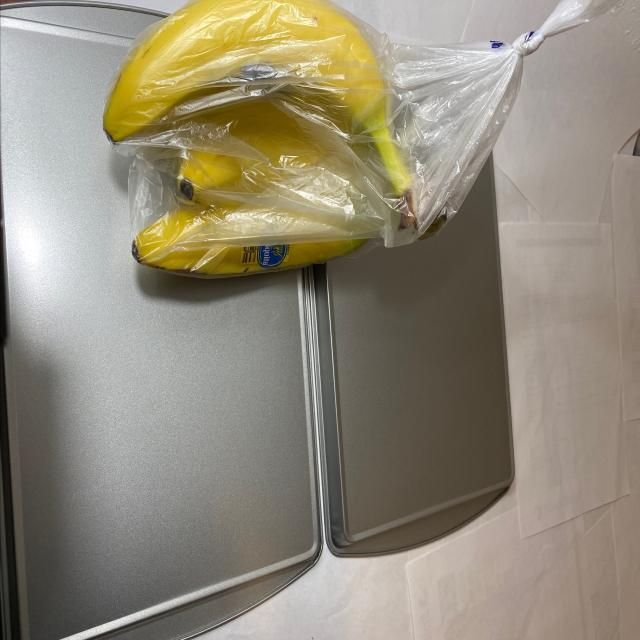banana: (97, 2, 455, 291)
